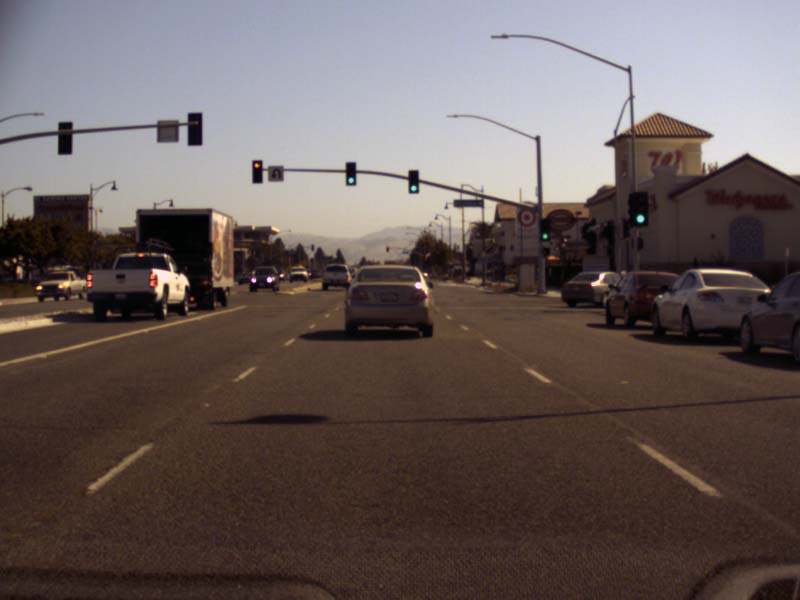Green: (633, 193, 646, 225), (346, 163, 355, 184), (409, 170, 417, 193), (541, 220, 549, 240)
Red: (252, 160, 262, 182)
